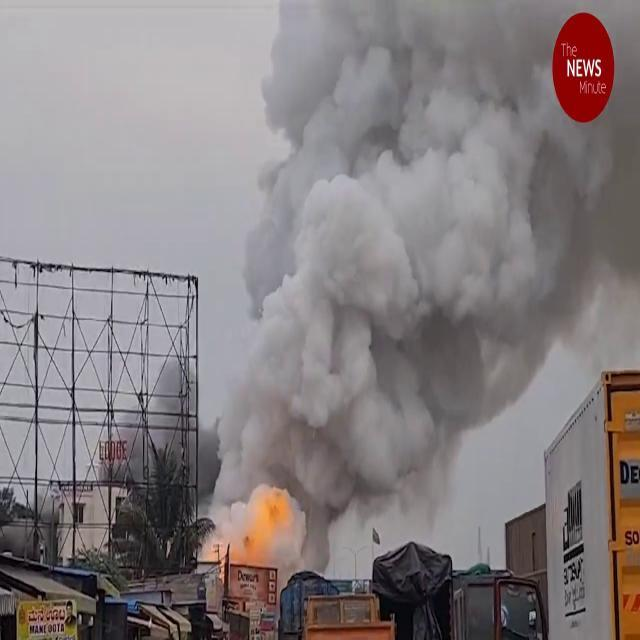Fire: (238, 481, 296, 563)
Smoke: (201, 1, 639, 544)
